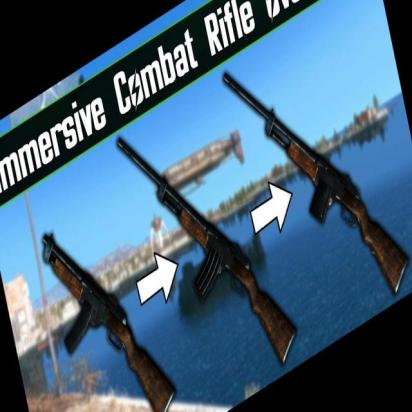Gun: (229, 69, 412, 293), (34, 189, 162, 412)
